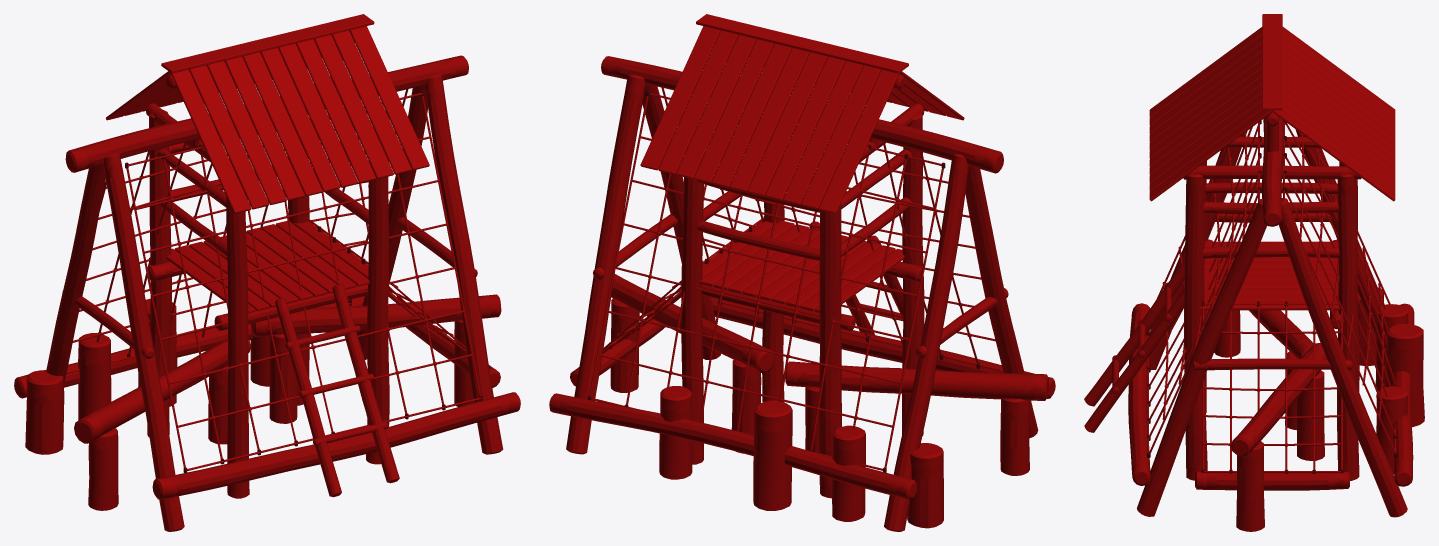
The model's file is timberkit.glb.
3 views of the same model, side by side, from view 1: azimuth 30°, elevation 25°; view 2: azimuth 150°, elevation 25°; view 3: azimuth 270°, elevation 25° (orthographic). The views are drawn at different scales.
Parts seen in each view (by area): view 1: tl_tower_lod0, tl_climb_lod0, tl_beam_lod0; view 2: tl_tower_lod0, tl_climb_lod0, tl_beam_lod0; view 3: tl_tower_lod0, tl_climb_lod0, tl_beam_lod0.
Boxes of the visible parts, <box> form: tl_tower_lod0: <box>106,14,500,498</box>; tl_climb_lod0: <box>14,55,520,531</box>; tl_beam_lod0: <box>25,294,501,510</box>; tl_tower_lod0: <box>570,14,964,498</box>; tl_climb_lod0: <box>549,56,1055,531</box>; tl_beam_lod0: <box>610,274,1048,528</box>; tl_tower_lod0: <box>1084,14,1395,490</box>; tl_climb_lod0: <box>1128,117,1414,517</box>; tl_beam_lod0: <box>1214,287,1424,531</box>.
Size of what is drawn, in the model's own units: 3.78 by 3.37 by 2.7.
